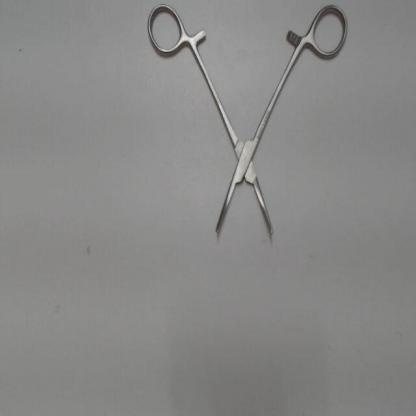Crile Artery Forceps: (135, 0, 353, 245)
